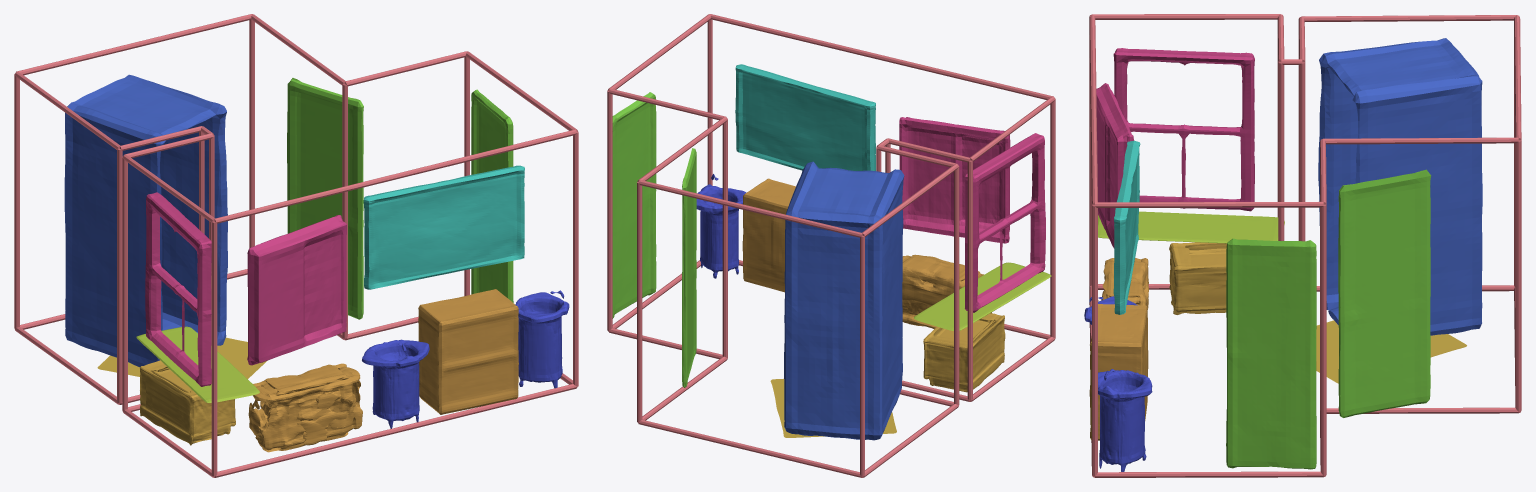
Rendered from Ours-Beechwood_1_int-00069-rgb.glb.
3 renders of one model, left to right at view 1: azimuth 30°, elevation 25°; view 2: azimuth 150°, elevation 25°; view 3: azimuth 270°, elevation 25°, orthographic. The views are drawn at different scales.
Visible parts, largest first — view 1: world; view 2: world; view 3: world.
Part boxes in pixels (left/top/right/bottom): world: left=14, top=14, right=578, bottom=477; world: left=607, top=14, right=1055, bottom=477; world: left=1084, top=14, right=1521, bottom=477.
Bounding box in the file's own units: 3.73 × 2.49 × 3.56.
